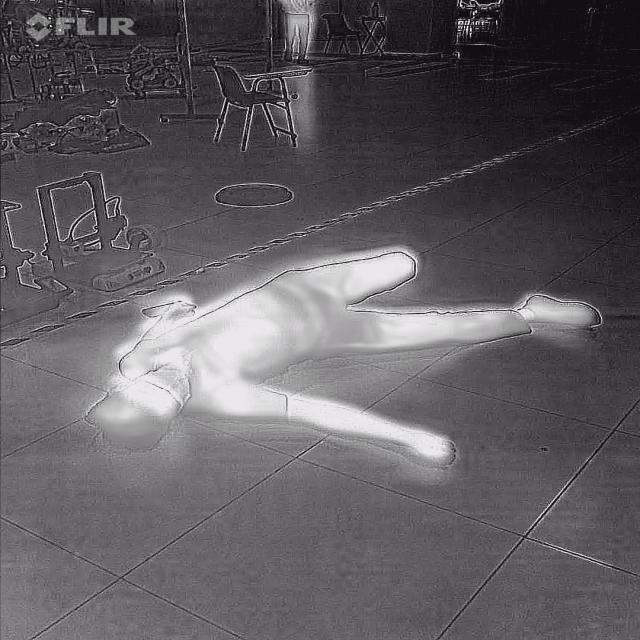Victim: (75, 245, 607, 469)
